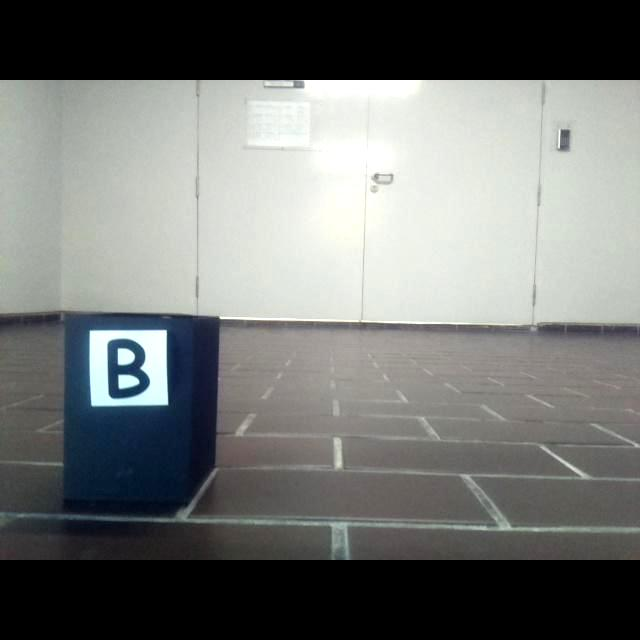B: (106, 339, 150, 400)
